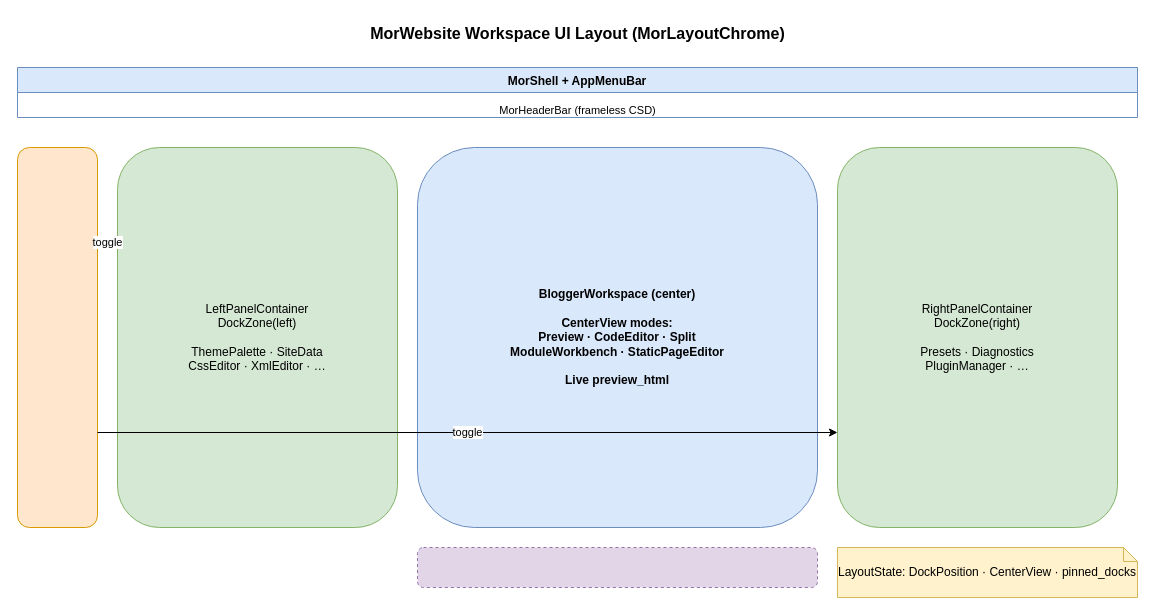
Some shapes in this 1155 by 615 pixel diagram are drawn without their labels. Here are the shapes that lost their labels. From the top down, the centre of each, then its label:
point 57,337: ActivityBar 48px 10 dock toggles
point 617,567: FloatingWindowManager (undocked presets, glow, static pages)
